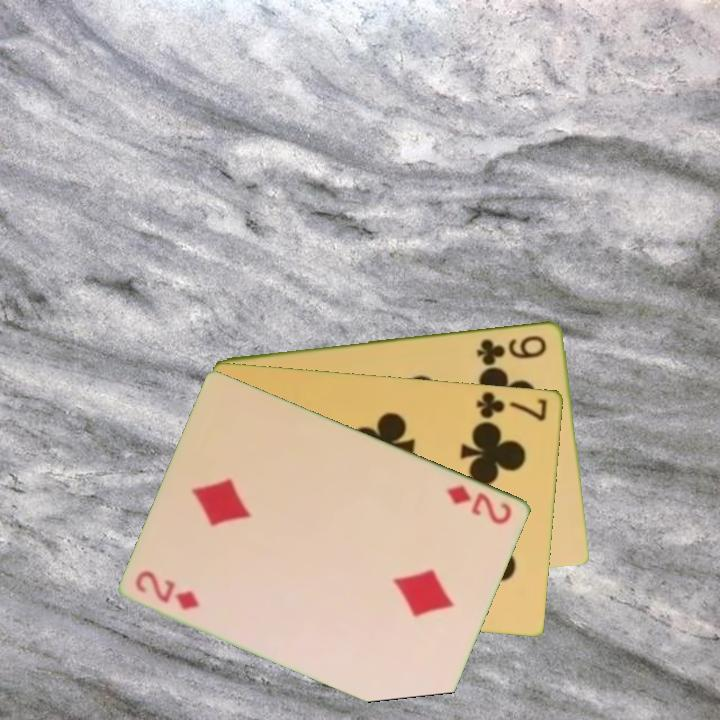2d: (443, 481, 515, 527), (132, 567, 203, 613)
7c: (473, 387, 550, 424)
9c: (473, 331, 550, 365)
